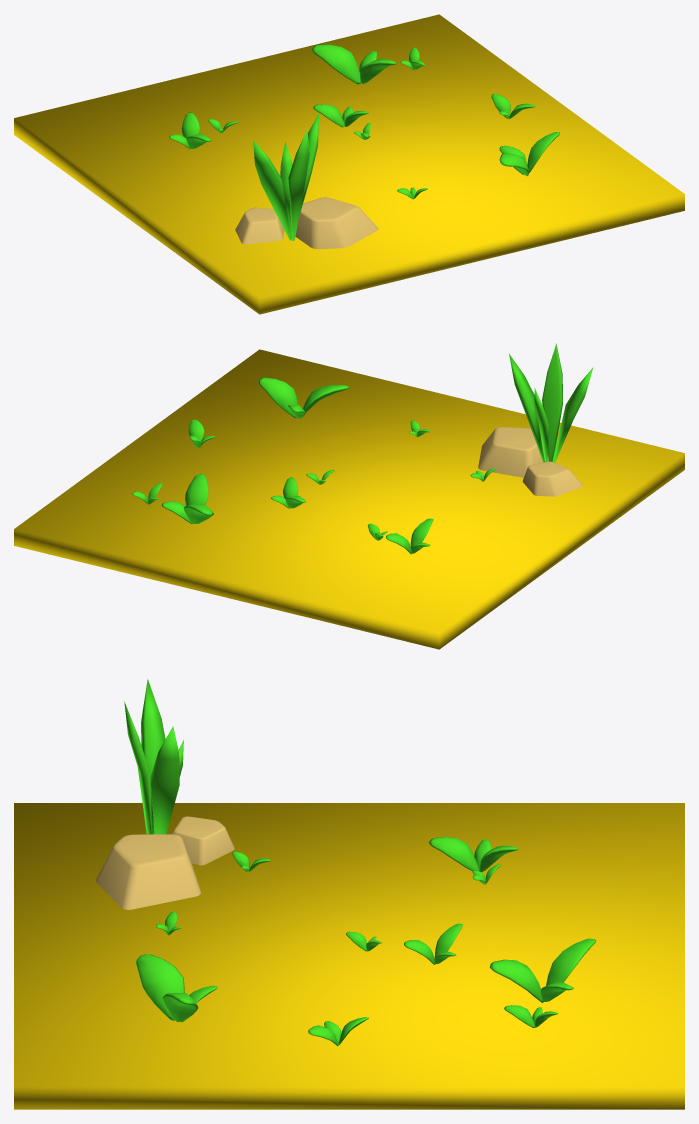
Rendered from grass_floor.fbx.
3 renders of one model, top to bottom at view 1: azimuth 30°, elevation 25°; view 2: azimuth 150°, elevation 25°; view 3: azimuth 270°, elevation 25°, orthographic. The views are drawn at different scales.
Parts seen in each view (by area): view 1: grass_floor; view 2: grass_floor; view 3: grass_floor.
Part boxes in pixels (x1,y1,x2,y2): grass_floor: (14, 14, 684, 314); grass_floor: (14, 343, 684, 649); grass_floor: (14, 679, 684, 1109).
Bounding box in the file's own units: 400 × 121 × 400.
